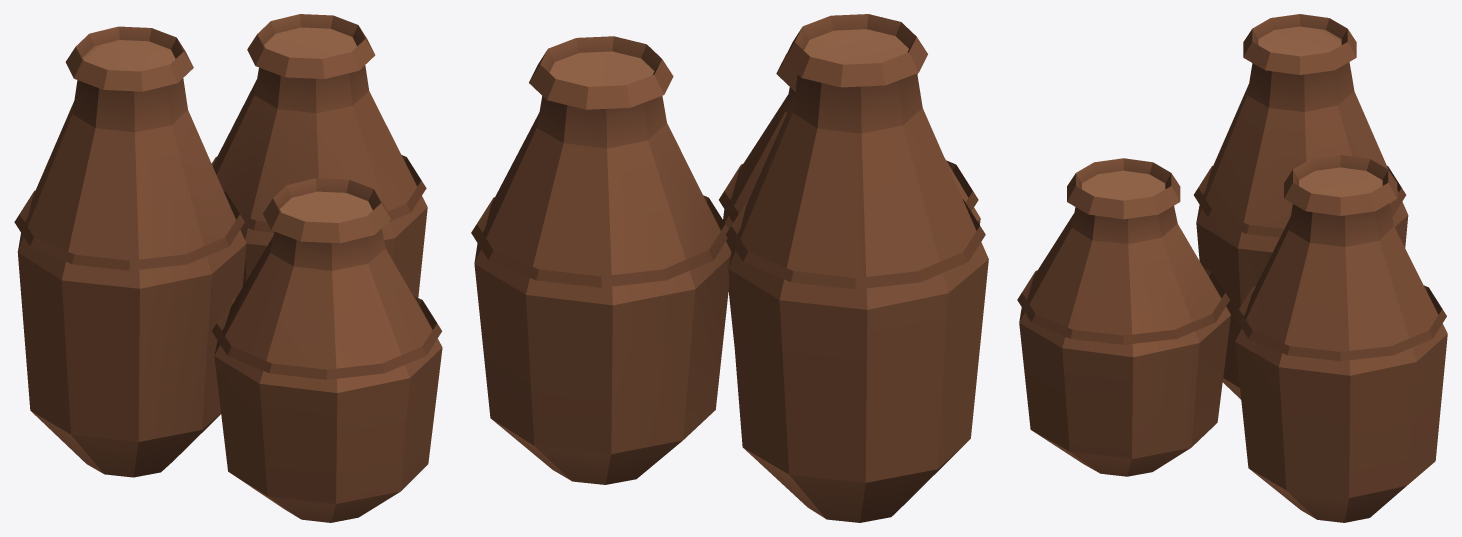
The model's file is storejars.glb.
3 renders of one model, left to right at view 1: azimuth 30°, elevation 25°; view 2: azimuth 150°, elevation 25°; view 3: azimuth 270°, elevation 25°, orthographic. The views are drawn at different scales.
Visible parts, largest first — view 1: base; view 2: base; view 3: base.
Boxes of the visible parts, left/top/right/bottom form: base: left=14, top=14, right=442, bottom=522; base: left=471, top=14, right=988, bottom=522; base: left=1017, top=14, right=1447, bottom=522.
Size of the model in its own units: 0.3187 by 0.308 by 0.3174.
